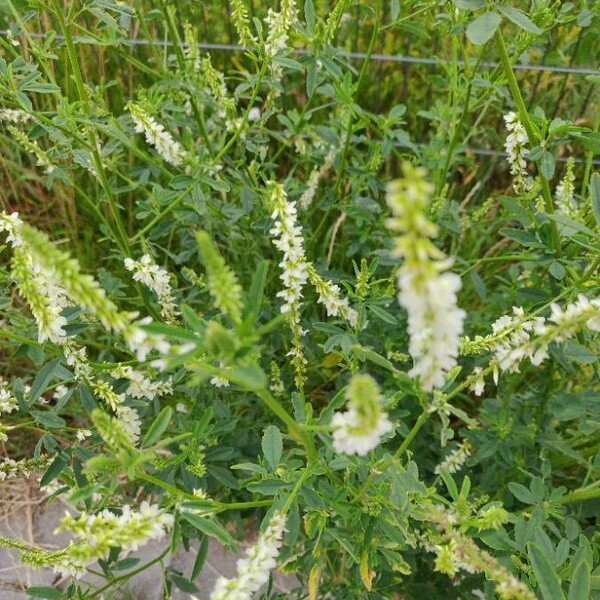obstacle: (116, 86, 521, 530)
